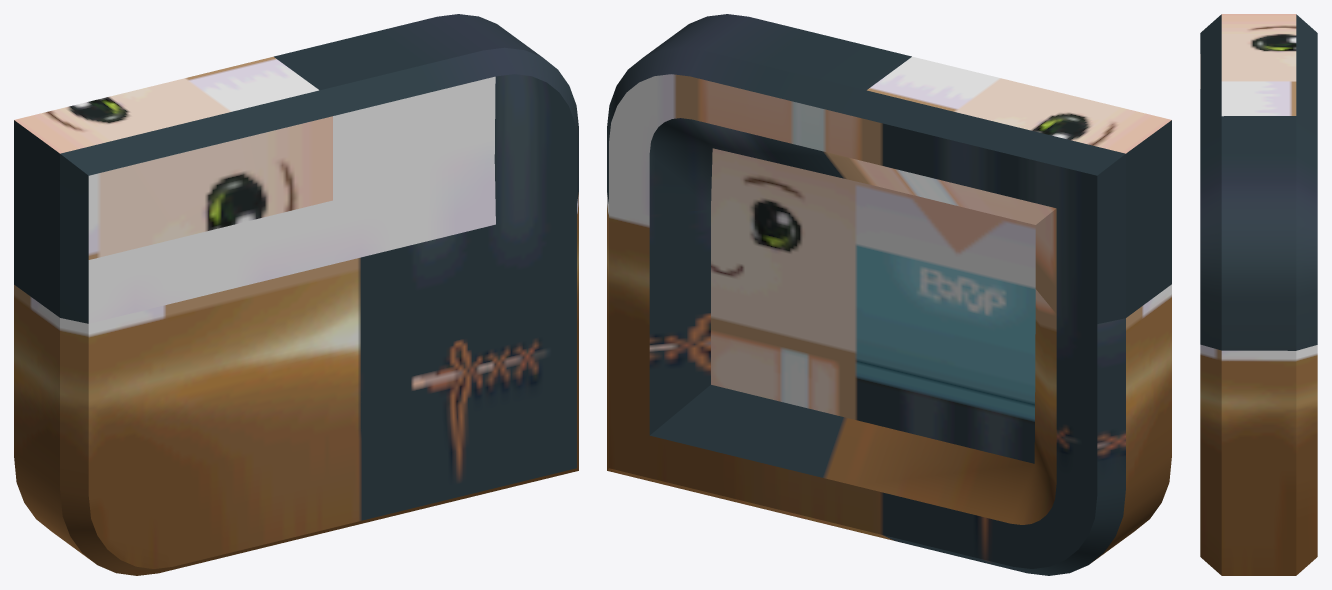
File: view.ico.obj
3 renders of one model, left to right at view 1: azimuth 30°, elevation 25°; view 2: azimuth 150°, elevation 25°; view 3: azimuth 270°, elevation 25°, orthographic. The views are drawn at different scales.
Size of the model in its own units: 4.78 by 3.91 by 1.16.
